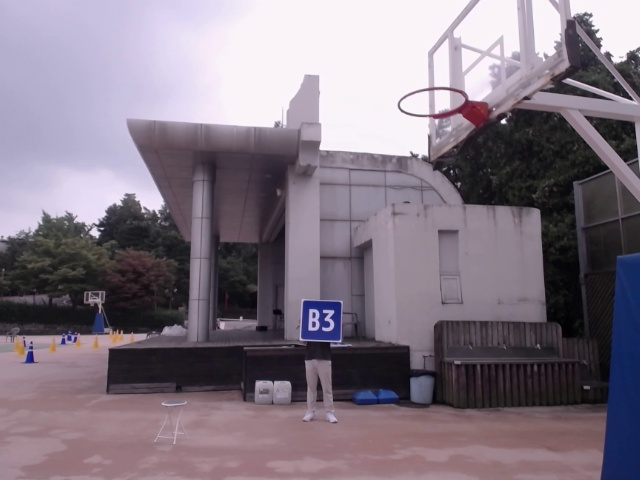delivery_b3: (301, 299, 343, 342)
